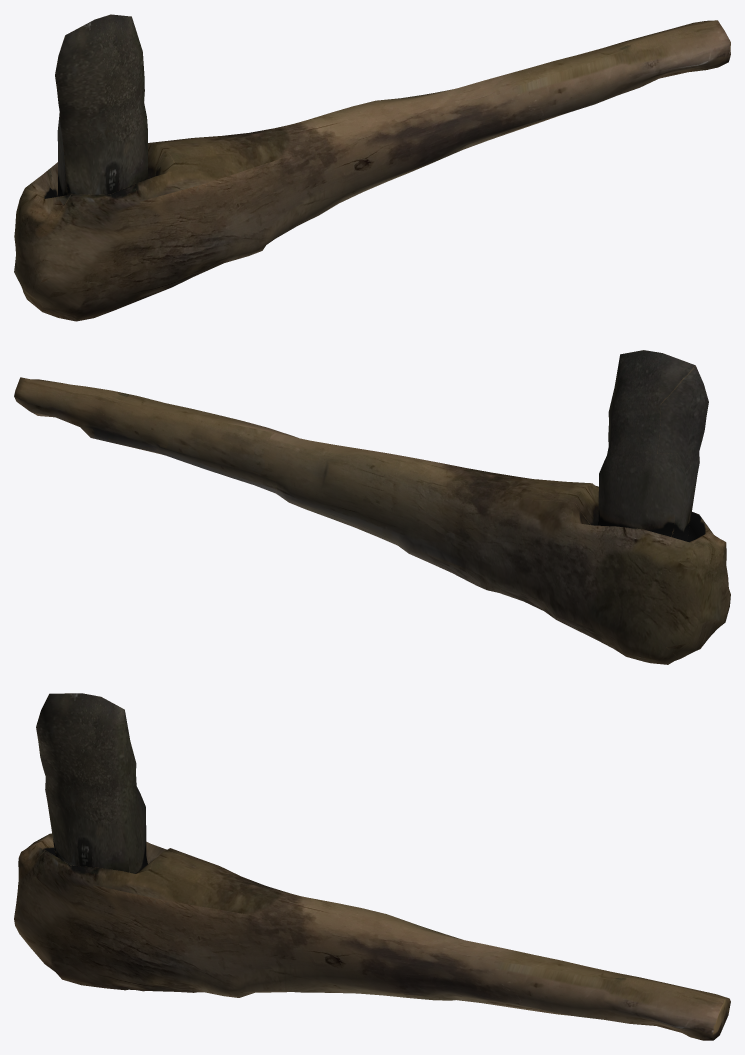
The model's file is hacha3.gltf.
The picture shows the model from 3 angles, top to bottom: view 1: azimuth 30°, elevation 25°; view 2: azimuth 150°, elevation 25°; view 3: azimuth 330°, elevation 25°; orthographic projection. The views are drawn at different scales.
Parts seen in each view (by area): view 1: TexturedMesh; view 2: TexturedMesh; view 3: TexturedMesh.
Boxes of the visible parts, x1=… form: TexturedMesh: x1=14, y1=14, x2=730, y2=321; TexturedMesh: x1=14, y1=350, x2=730, y2=664; TexturedMesh: x1=14, y1=693, x2=730, y2=1040.
Bounding box in the file's own units: 1.27 × 0.5149 × 0.1635.
1 material, 1 textured.
